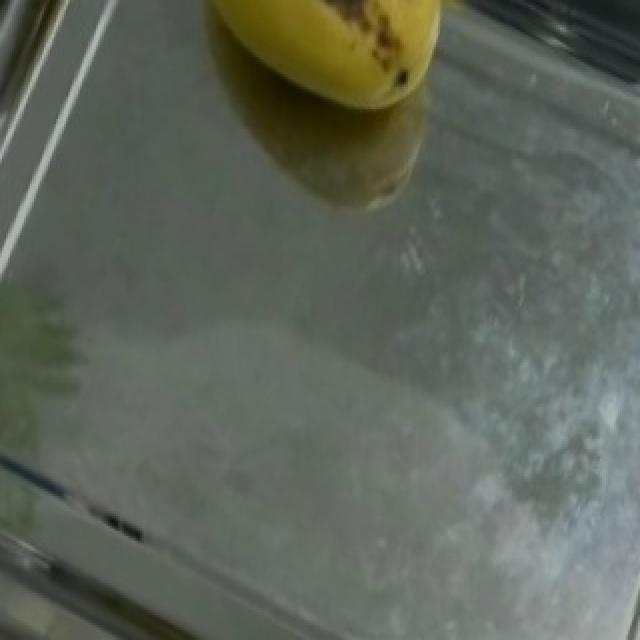fruit: (150, 0, 450, 161)
